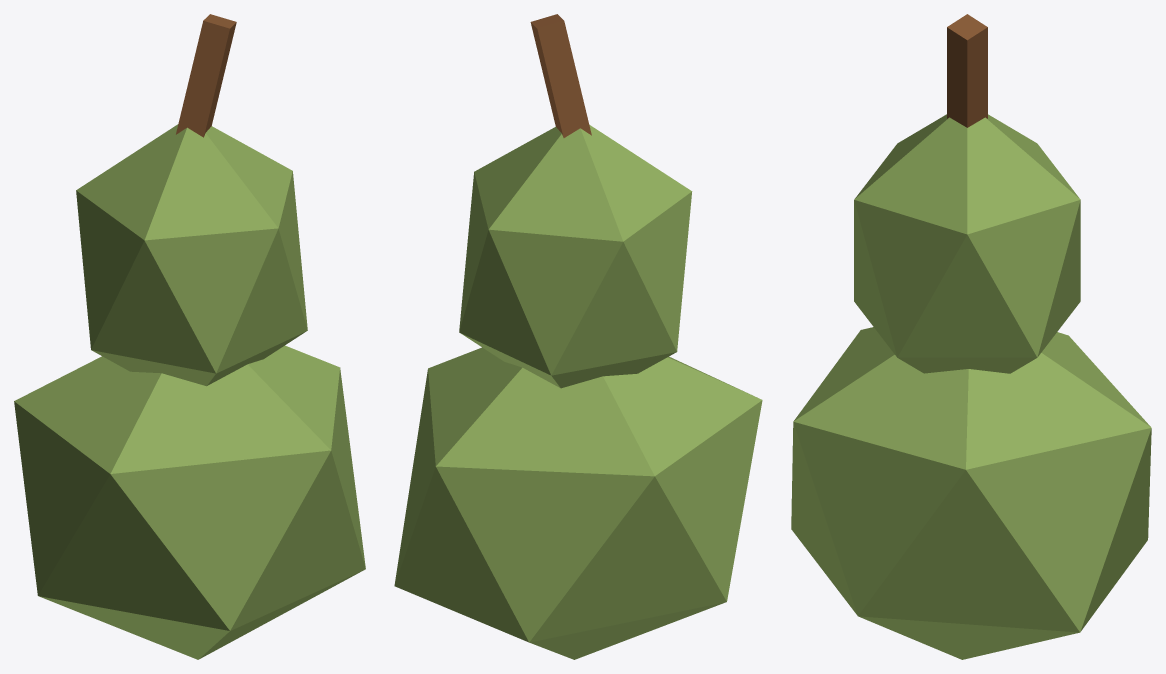
Rendered from fruit_pear.glb.
3 views of the same model, side by side, from view 1: azimuth 30°, elevation 25°; view 2: azimuth 150°, elevation 25°; view 3: azimuth 270°, elevation 25° (orthographic). The views are drawn at different scales.
Parts seen in each view (by area): view 1: fruit_pear; view 2: fruit_pear; view 3: fruit_pear.
Part boxes in pixels (left/top/right/bottom): fruit_pear: left=14, top=14, right=365, bottom=659; fruit_pear: left=394, top=14, right=762, bottom=659; fruit_pear: left=791, top=14, right=1151, bottom=659.
Bounding box in the file's own units: 0.0691 × 0.14 × 0.0704.
